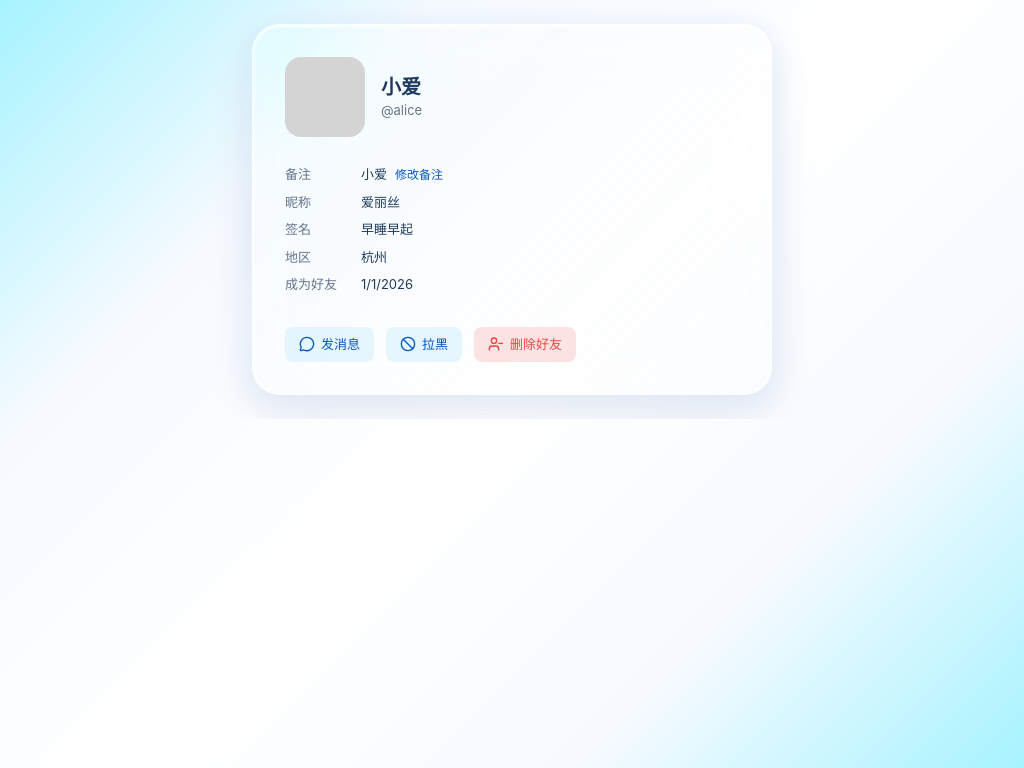
Test: ProfileView › 删除好友失败：显示错误、按钮恢复、不跳转
Expected: the text "早睡早起" is shown, [361,220,413,240]
Step 1. Click the button "删除好友" → coordinates (525, 344), box [474,326,576,362]
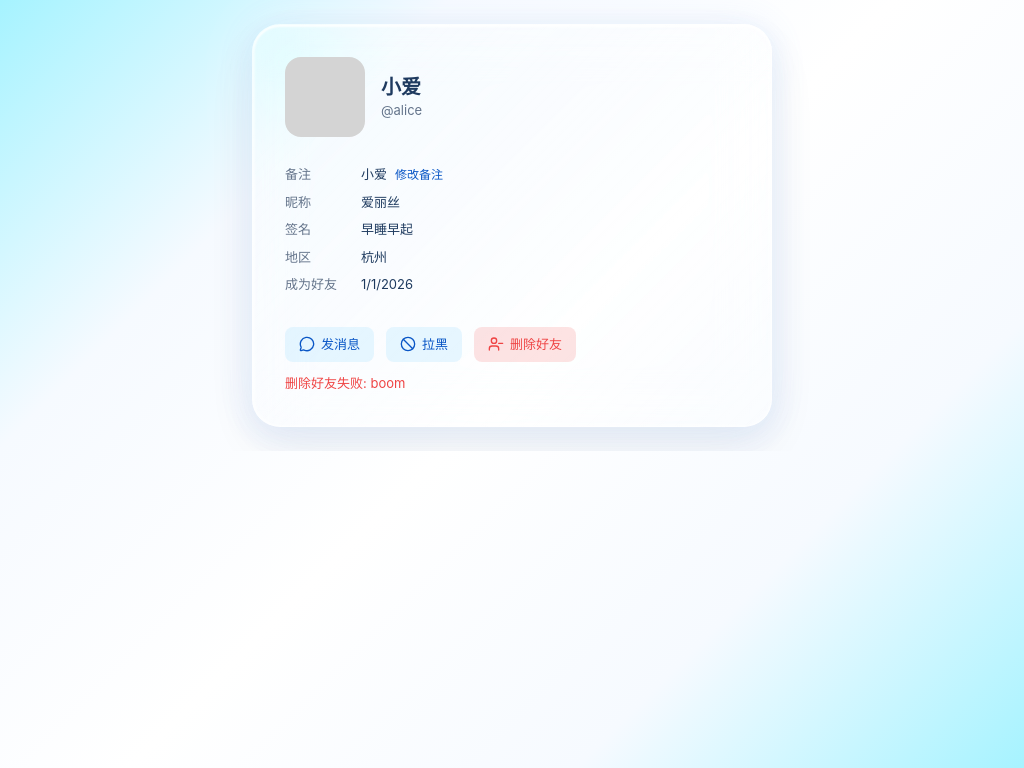
Expected: the text "删除好友失败: boom" is shown, [285,375,405,391]
